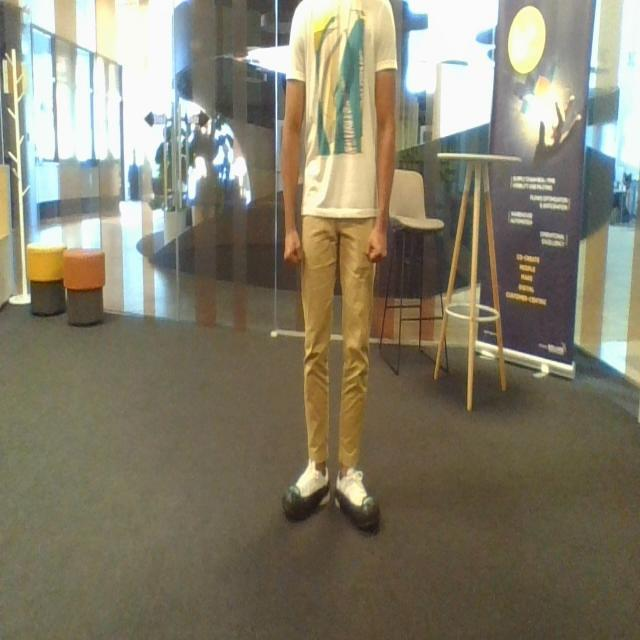shoes: (337, 465, 388, 532), (279, 464, 333, 524)
